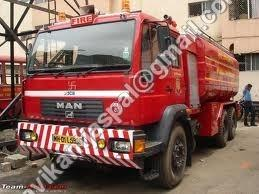Emergency-Vehicles: (24, 14, 240, 184)
